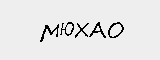А: (88, 19, 106, 39)
М: (38, 19, 59, 42)
О: (107, 20, 125, 40)
Х: (76, 21, 90, 38)
Ю: (61, 16, 74, 36)
